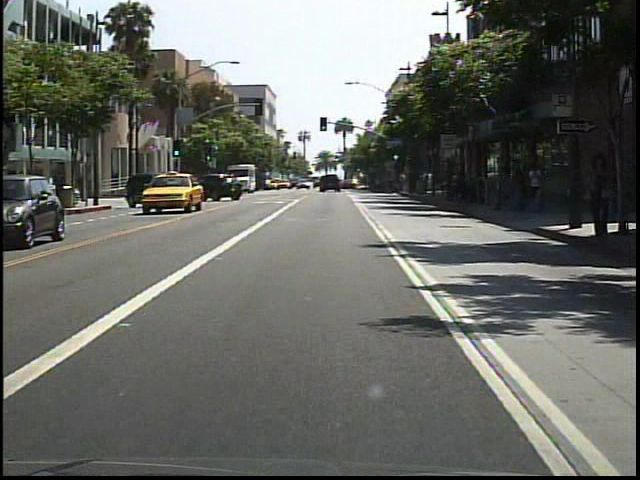person: (582, 151, 616, 243), (526, 162, 548, 215)
